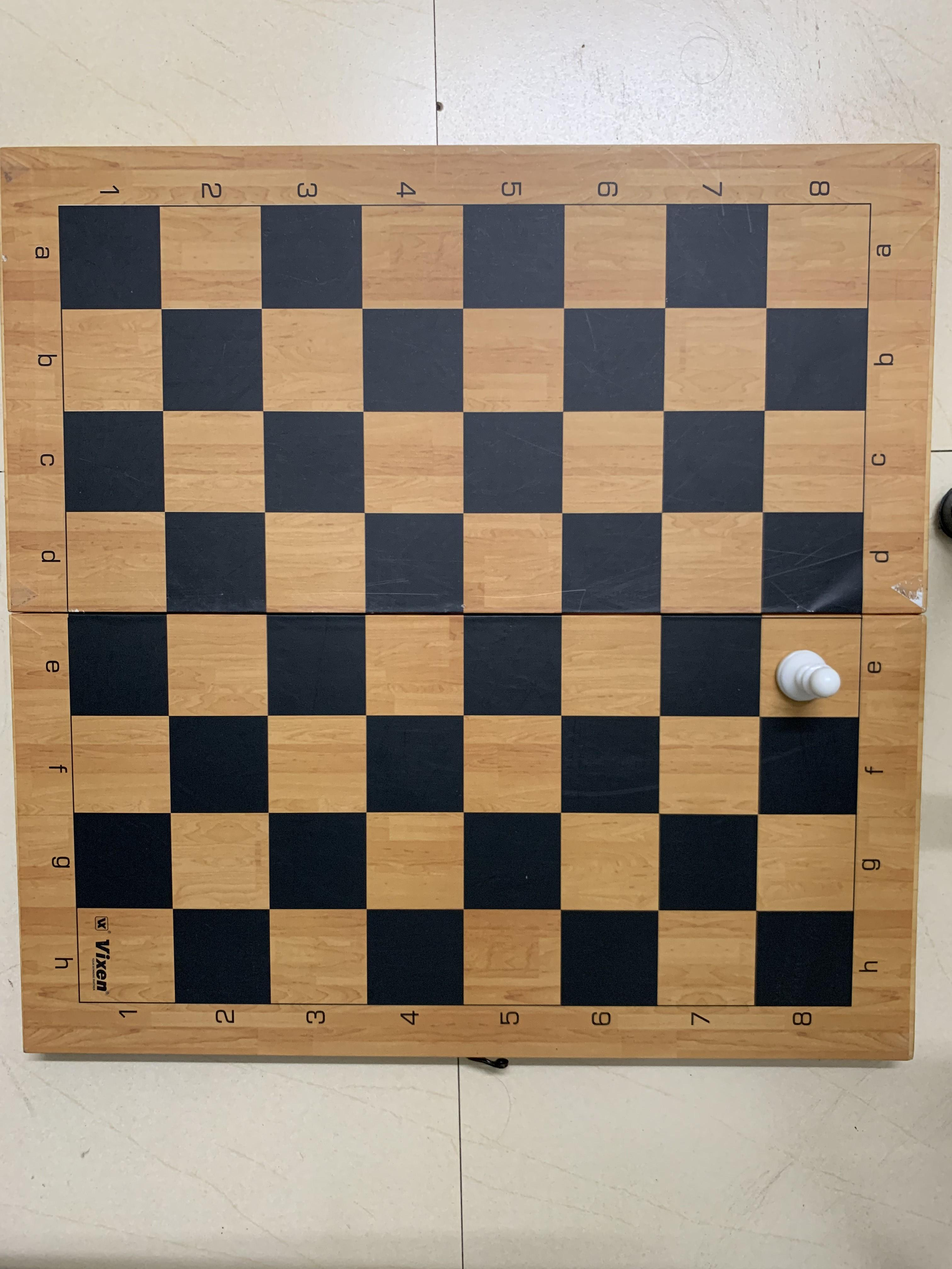white_pawn: (765, 615, 864, 719)
